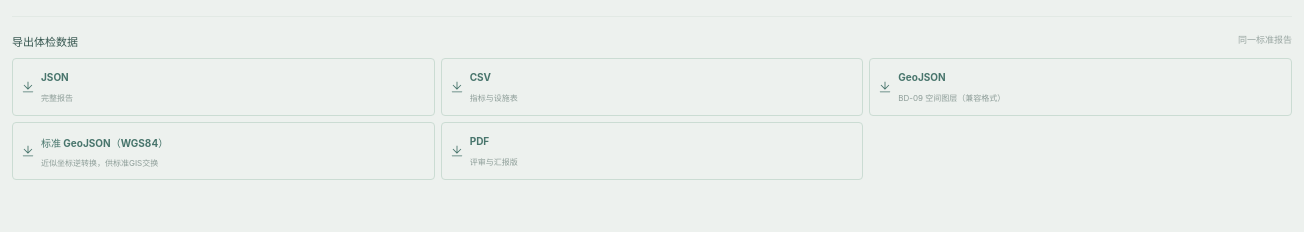
Test: 标准WGS84与BD09导出入口 › 标准导出期间所有入口禁重复请求，失败显示服务端原因
The width and height of the screenshot is (1304, 232).
Click the button "标准 GeoJSON（WGS84） 近似坐标逆转换，供标准GIS交换": (105, 142) x1=12 y1=122 x2=435 y2=180
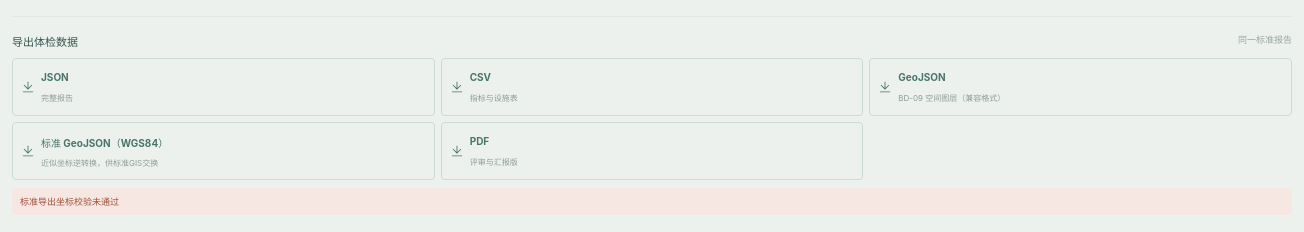
Check: the message "标准导出坐标校验未通过" is shown, box x1=12 y1=188 x2=1292 y2=215
